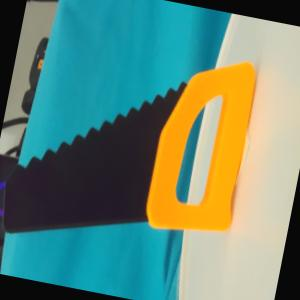serrote: (0, 20, 263, 276)
